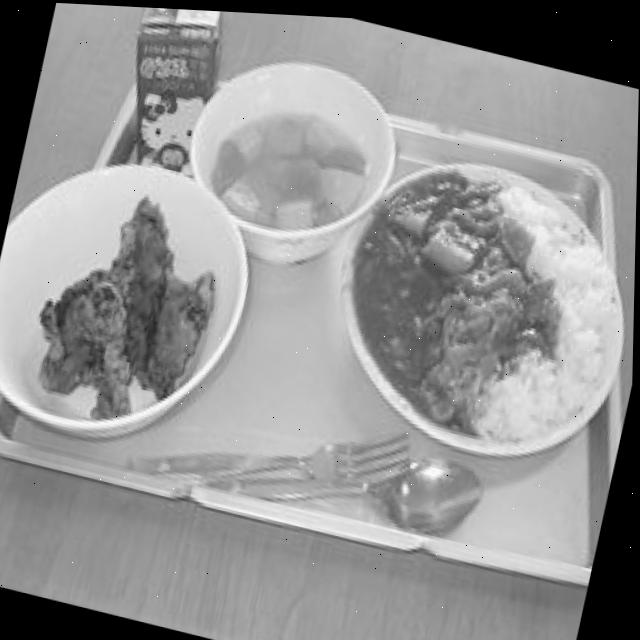牛肉菜式: (315, 122, 638, 473)
鸡肉料理 含炸鸡: (0, 131, 268, 476)
